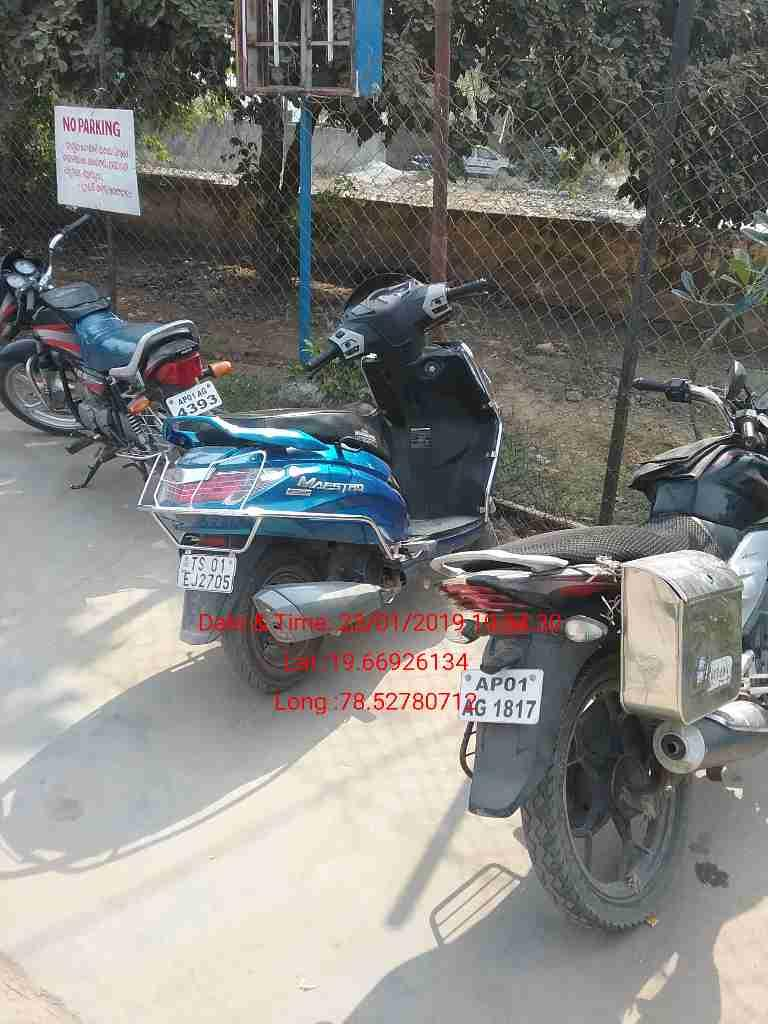plate: (460, 666, 546, 728), (174, 547, 240, 594), (158, 378, 225, 419)
